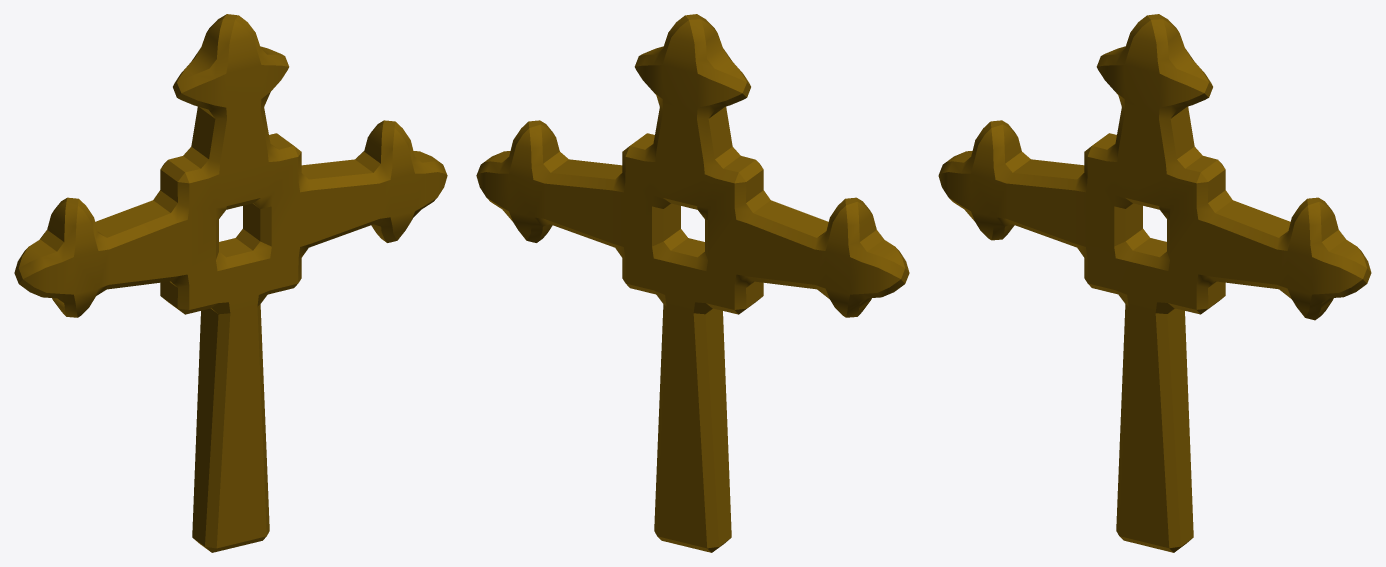
File: cruz.fbx
3 renders of one model, left to right at view 1: azimuth 30°, elevation 25°; view 2: azimuth 150°, elevation 25°; view 3: azimuth 330°, elevation 25°, orthographic.
Parts seen in each view (by area): view 1: pCube3; view 2: pCube3; view 3: pCube3.
Boxes of the visible parts, left/top/right/bottom form: pCube3: left=14, top=14, right=447, bottom=552; pCube3: left=476, top=14, right=909, bottom=552; pCube3: left=938, top=14, right=1371, bottom=552.
Size of the model in its own units: 5.9 by 6.98 by 0.6491.
